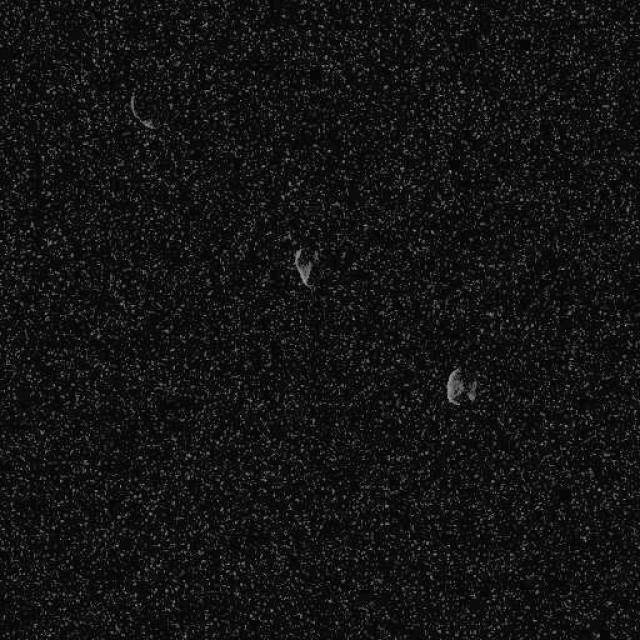D2: (445, 365, 477, 406), (128, 90, 160, 130), (291, 245, 319, 289)
